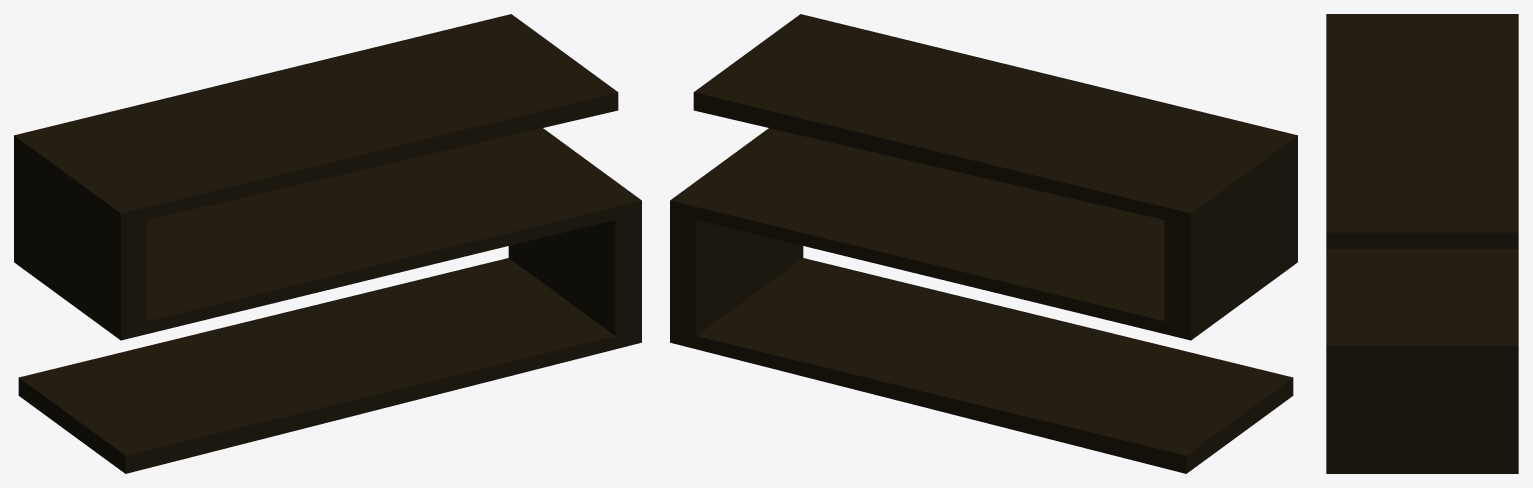
The model's file is pandemonium_wall_shelf.fbx.
3 renders of one model, left to right at view 1: azimuth 30°, elevation 25°; view 2: azimuth 150°, elevation 25°; view 3: azimuth 270°, elevation 25°, orthographic. The views are drawn at different scales.
Visible parts, largest first — view 1: Plane.018; view 2: Plane.018; view 3: Plane.018.
Part boxes in pixels (x1,y1,x2,y2): Plane.018: [14, 14, 641, 473]; Plane.018: [670, 14, 1297, 473]; Plane.018: [1326, 14, 1518, 473].
Bounding box in the file's own units: 222 × 106 × 78.88.
